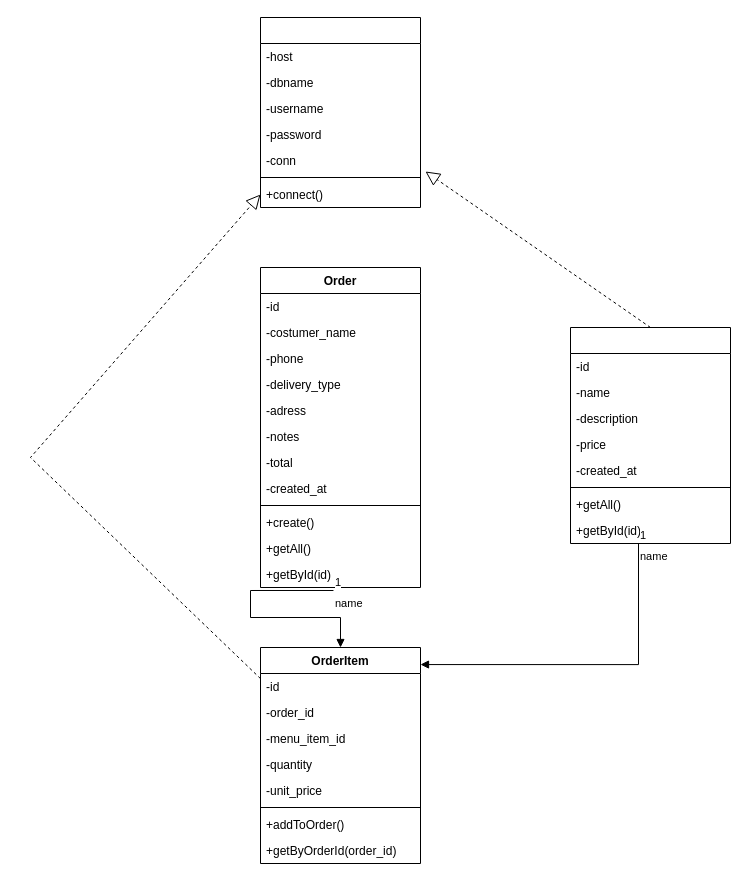
The diagram is 748 pixels wide and 884 high, and some of its shapes have lost their labels. The shapes that lost their labels are listed below. From the top down, each one's box as (x1, y1, x2, y2) in pixels, then its label:
(260, 16, 420, 208): Database
(570, 326, 730, 544): MenuItem
